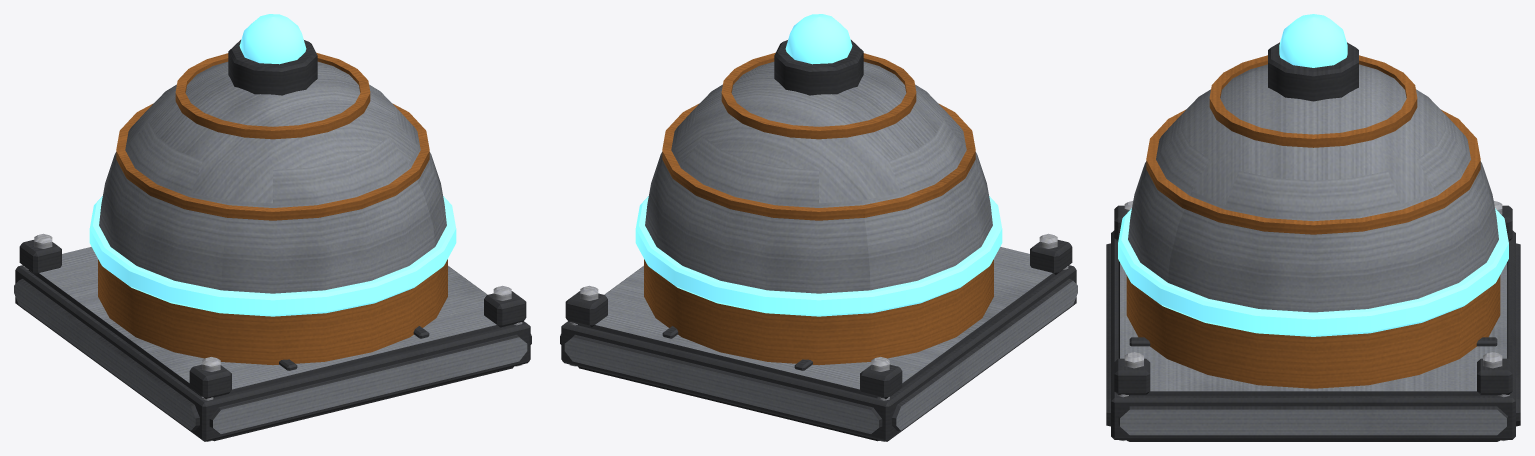
The model's file is R4X_PersonalShield.glb.
The picture shows the model from 3 angles, left to right: view 1: azimuth 30°, elevation 25°; view 2: azimuth 150°, elevation 25°; view 3: azimuth 270°, elevation 25°; orthographic projection. The views are drawn at different scales.
Visible parts, largest first — view 1: R4X_PersonalShield_Body; view 2: R4X_PersonalShield_Body; view 3: R4X_PersonalShield_Body.
Part boxes in pixels (x1,y1,x2,y2): R4X_PersonalShield_Body: [14, 14, 531, 441]; R4X_PersonalShield_Body: [560, 14, 1077, 441]; R4X_PersonalShield_Body: [1106, 14, 1520, 441].
Bounding box in the file's own units: 0.52 × 0.475 × 0.52.
5 materials, 4 textured.
